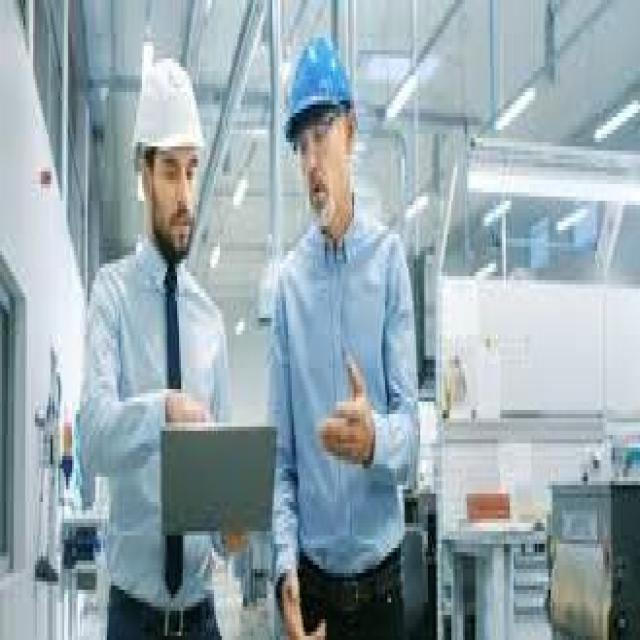Safety-Helmet: (276, 21, 370, 155), (123, 46, 214, 176)
